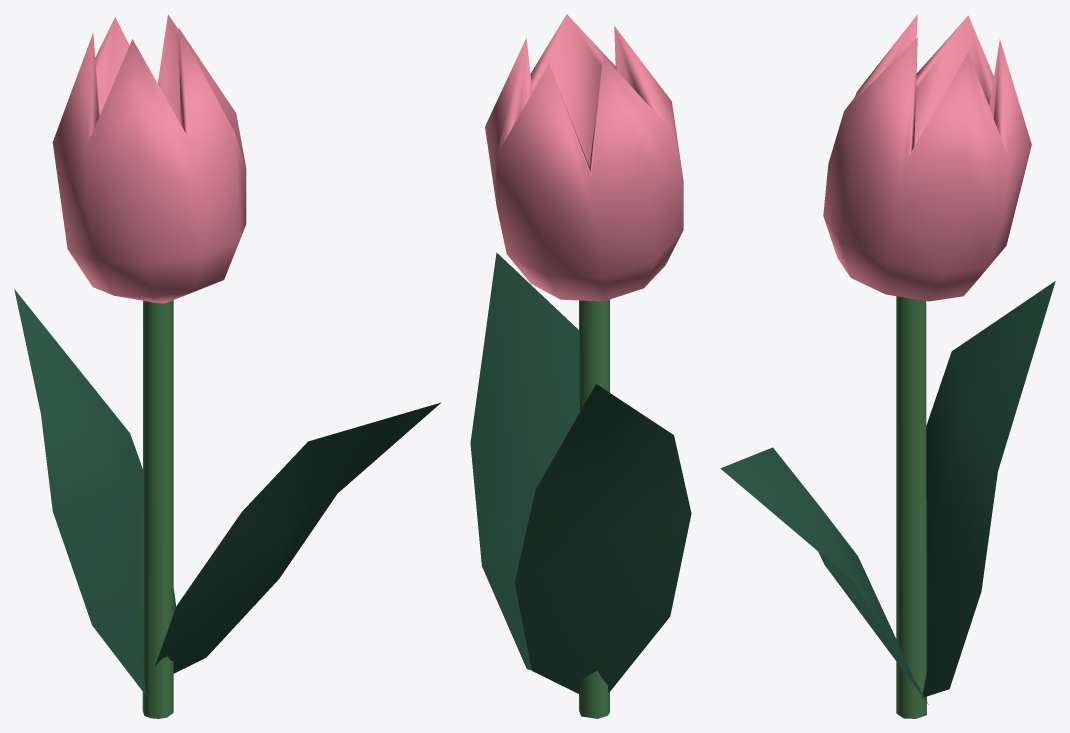
Rendered from Flower2.fbx.
3 renders of one model, left to right at view 1: azimuth 30°, elevation 25°; view 2: azimuth 150°, elevation 25°; view 3: azimuth 270°, elevation 25°, orthographic. The views are drawn at different scales.
Visible parts, largest first — view 1: Cylinder.001, Cube.021, Cube.101, Cylinder.002; view 2: Cylinder.001, Cube.021, Cube.101, Cylinder.002; view 3: Cylinder.001, Cube.021, Cylinder.002, Cube.101.
Part boxes in pixels (x1,y1,x2,y2): Cylinder.001: (52, 14, 246, 303); Cube.021: (14, 289, 176, 695); Cube.101: (154, 402, 441, 673); Cylinder.002: (142, 300, 173, 718); Cylinder.001: (485, 14, 683, 301); Cube.021: (514, 384, 691, 694); Cube.101: (470, 252, 578, 670); Cylinder.002: (579, 299, 609, 718); Cylinder.001: (823, 14, 1031, 301); Cube.021: (922, 281, 1055, 697); Cylinder.002: (896, 296, 926, 718); Cube.101: (720, 447, 928, 704).
Size of the model in its own units: 59.32 by 132 by 58.62.
